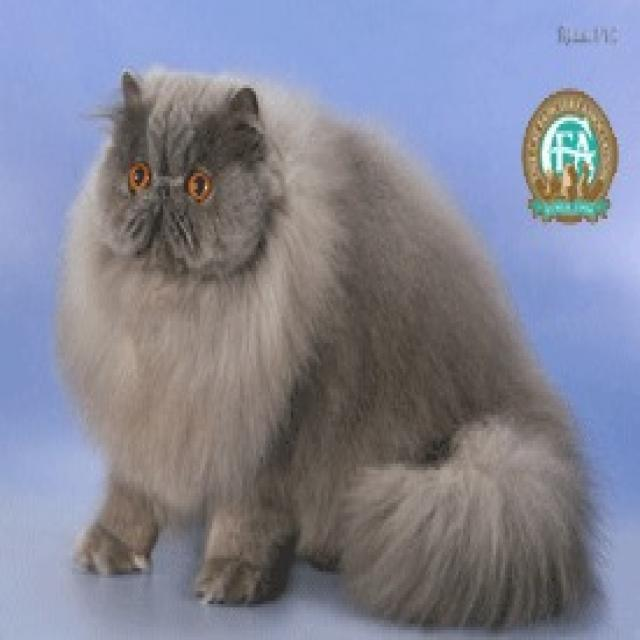Persian: (96, 69, 266, 271)
